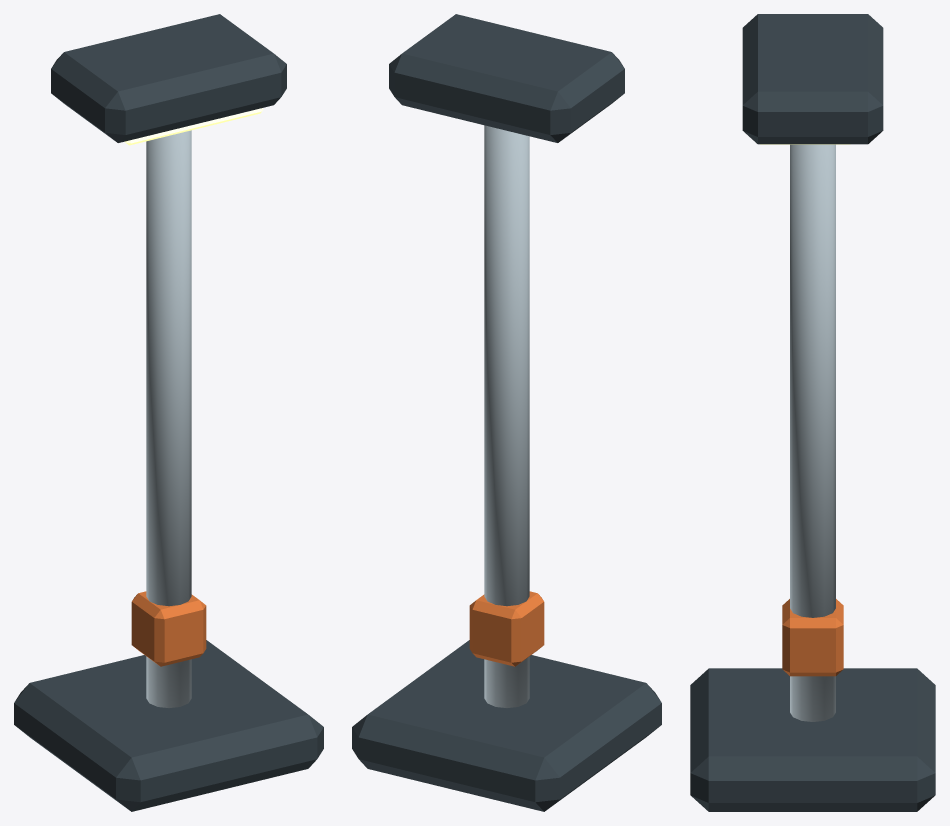
Rendered from lamp.glb.
3 views of the same model, side by side, from view 1: azimuth 30°, elevation 25°; view 2: azimuth 150°, elevation 25°; view 3: azimuth 270°, elevation 25° (orthographic). The views are drawn at different scales.
Visible parts, largest first — view 1: lamp_dark.001, lamp_metal.001, lamp_orange.001, lamp_light.001; view 2: lamp_dark.001, lamp_metal.001, lamp_orange.001; view 3: lamp_dark.001, lamp_metal.001, lamp_orange.001.
Part boxes in pixels (x1,y1,x2,y2): lamp_dark.001: [14, 14, 323, 811]; lamp_metal.001: [146, 130, 191, 707]; lamp_orange.001: [131, 591, 206, 666]; lamp_light.001: [124, 108, 263, 145]; lamp_dark.001: [352, 14, 661, 811]; lamp_metal.001: [484, 125, 529, 707]; lamp_orange.001: [469, 591, 544, 666]; lamp_dark.001: [690, 14, 935, 811]; lamp_metal.001: [790, 144, 835, 721]; lamp_orange.001: [782, 599, 843, 676].
Size of the model in its own units: 0.8 by 2.58 by 0.8.
